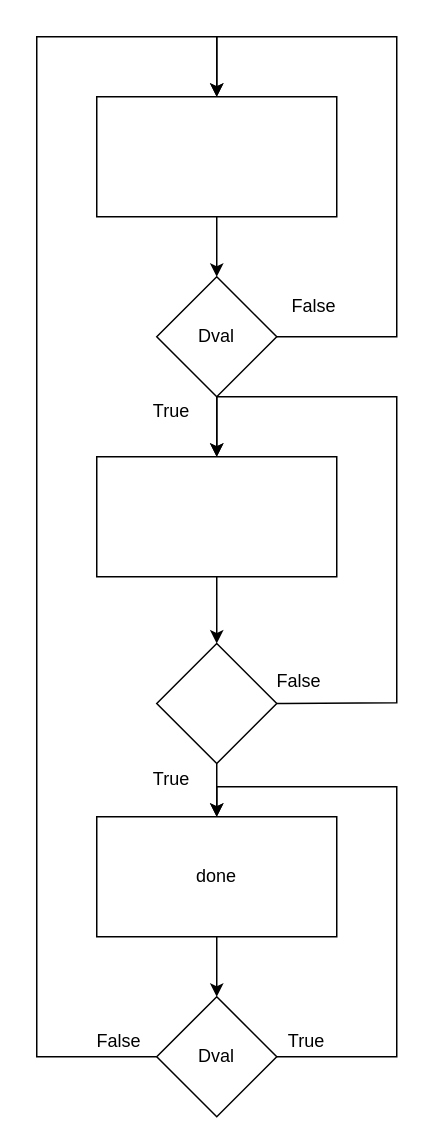
The diagram is 435 pixels wide and 1143 high, and some of its shapes have lost their labels. The centre of each missing label's shape, as x and y in pixels:
Count == 13: (x=216, y=703)
Wrl + en_count: (x=216, y=516)
